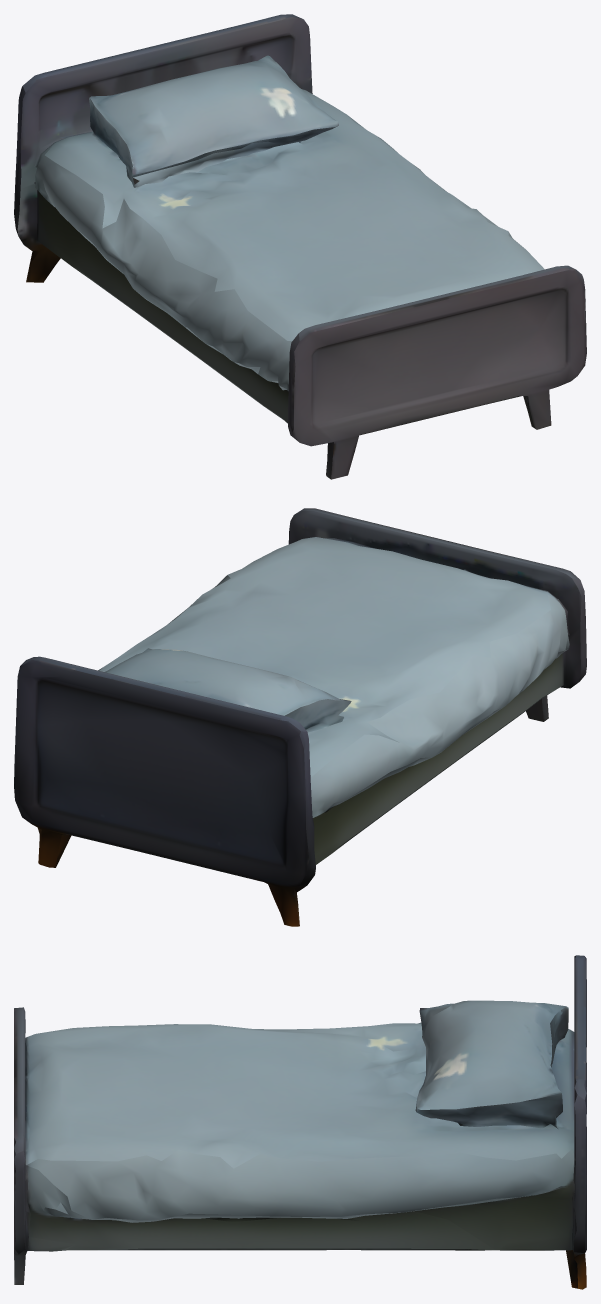
File: LitEnfantMale_3D_textured.glb
3 views of the same model, one above another, from view 1: azimuth 30°, elevation 25°; view 2: azimuth 150°, elevation 25°; view 3: azimuth 270°, elevation 25° (orthographic). The views are drawn at different scales.
Visible parts, largest first — view 1: temp_mesh.ply; view 2: temp_mesh.ply; view 3: temp_mesh.ply.
Boxes of the visible parts, x1,y1,x2,y2 form: temp_mesh.ply: [14, 14, 586, 479]; temp_mesh.ply: [14, 508, 586, 926]; temp_mesh.ply: [14, 955, 586, 1289].
Bounding box in the file's own units: 1.26 × 0.8044 × 1.97.
Materials: 1 (1 with a texture image).
